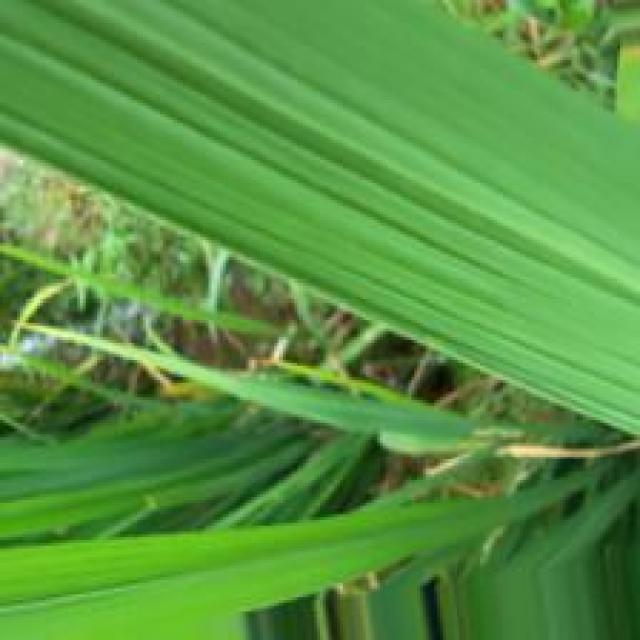HealthyLeaf: (0, 2, 638, 433)
